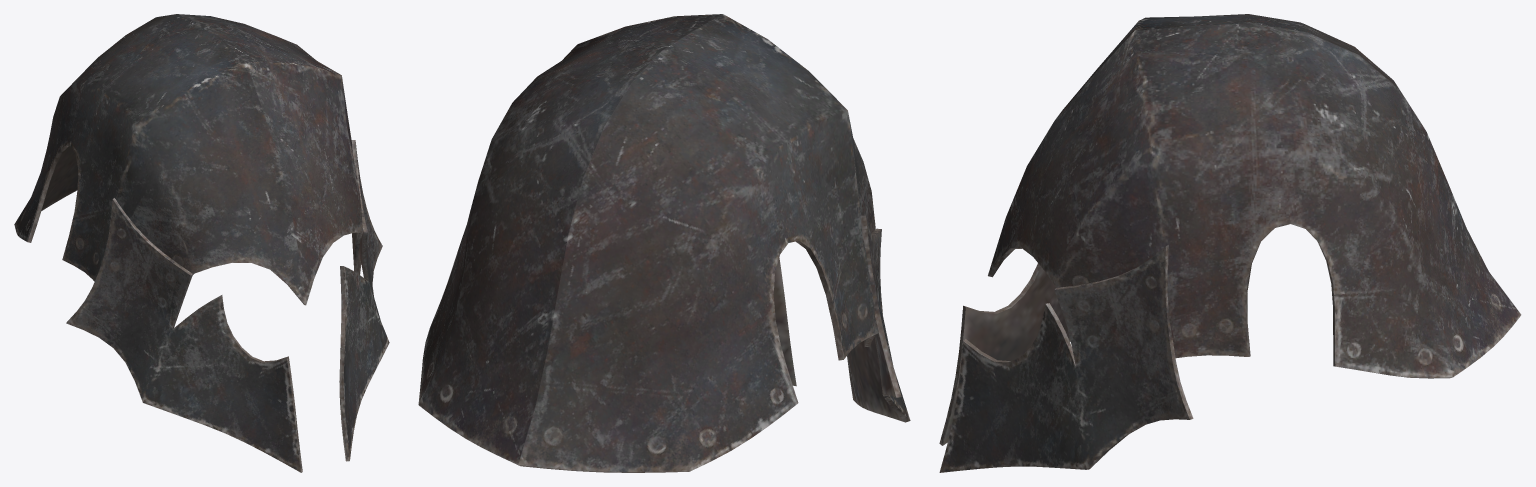
The model's file is sk_dg_uruk_helmet_med_d.fbx.
3 renders of one model, left to right at view 1: azimuth 30°, elevation 25°; view 2: azimuth 150°, elevation 25°; view 3: azimuth 270°, elevation 25°, orthographic. The views are drawn at different scales.
Visible parts, largest first — view 1: sk_dg_uruk_helmet_med_d; view 2: sk_dg_uruk_helmet_med_d; view 3: sk_dg_uruk_helmet_med_d.
Boxes of the visible parts, x1=… form: sk_dg_uruk_helmet_med_d: x1=14, y1=14, x2=389, y2=472; sk_dg_uruk_helmet_med_d: x1=418, y1=14, x2=910, y2=472; sk_dg_uruk_helmet_med_d: x1=939, y1=14, x2=1521, y2=472.
Size of the model in its own units: 0.2638 by 0.3392 by 0.2802.
1 material, 1 textured.
